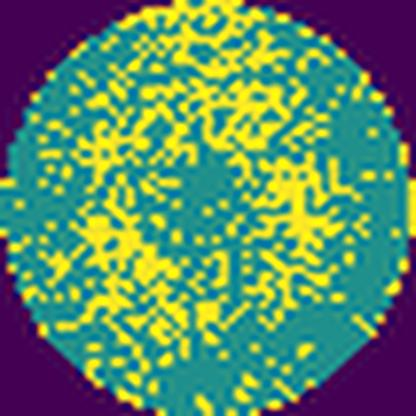Donut: (33, 0, 377, 358)
